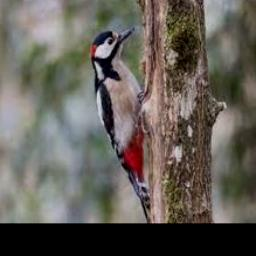Woodpecker: (91, 26, 151, 223)
